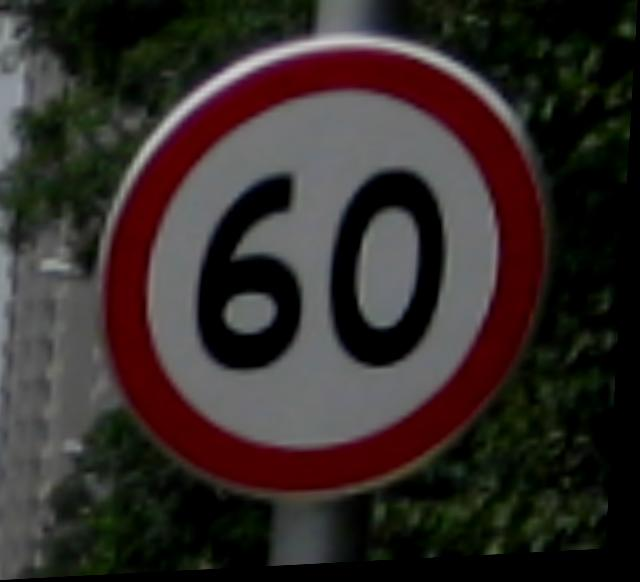limit60: (68, 20, 578, 516)
